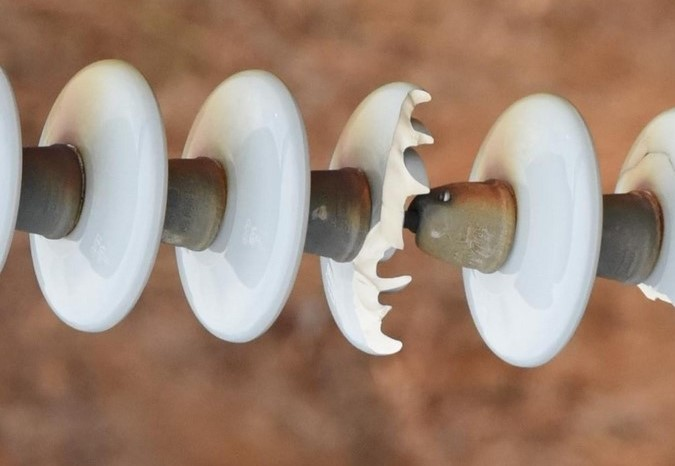insulator breakage: (318, 68, 441, 363)
